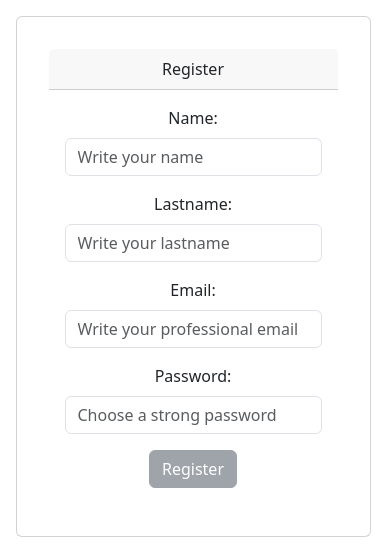
Register Page › Inputs are validated › Button is enabled when all inputs are validated
This screenshot has width=388, height=554.
Type "ekin" into the field with test id "name-input" at x=194, y=157, box [65, 138, 322, 176]
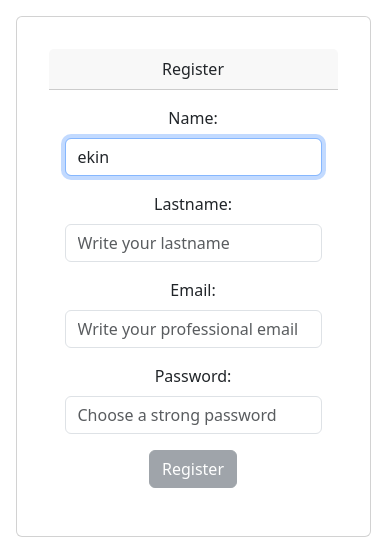
Type "eraydin" into the field with test id "lastname-input" at x=194, y=243, box [65, 224, 322, 262]
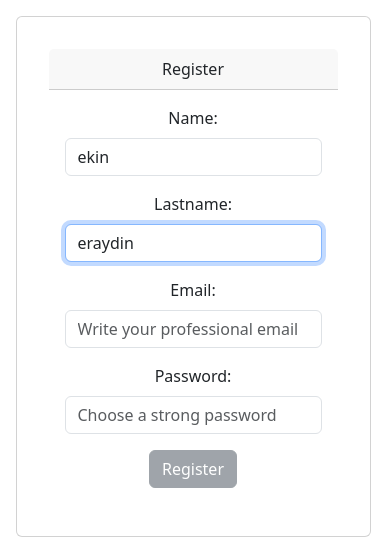
Type "uekineraydin@gmail.com" into the field with test id "email-input" at x=194, y=329, box [65, 310, 322, 348]
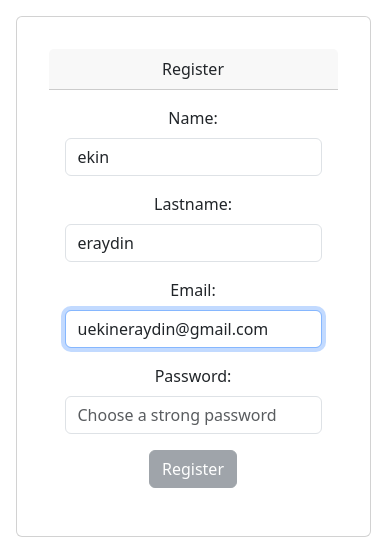
Type "1234AS!d" into the password field with test id "password-input" at x=194, y=415, box [65, 396, 322, 434]
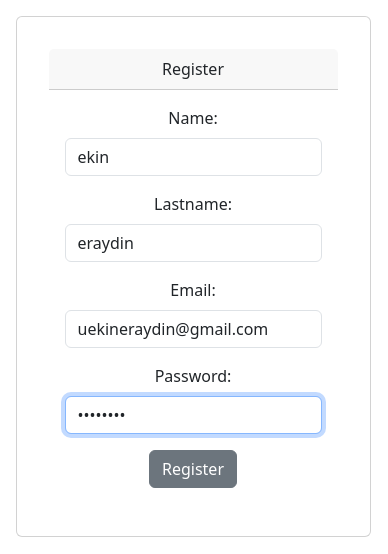
expect the button with test id "submit-button" is enabled: met, box [149, 450, 237, 488]
